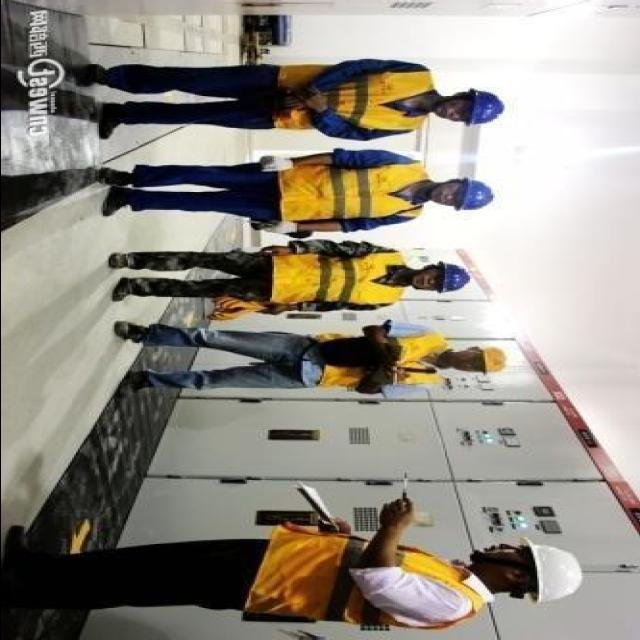helmet: (520, 538, 582, 612), (458, 82, 504, 134), (454, 178, 496, 220), (430, 257, 472, 295), (476, 341, 510, 377)
jacket: (248, 514, 488, 638), (265, 63, 437, 138), (274, 157, 433, 230), (258, 244, 412, 313), (296, 330, 454, 392)
